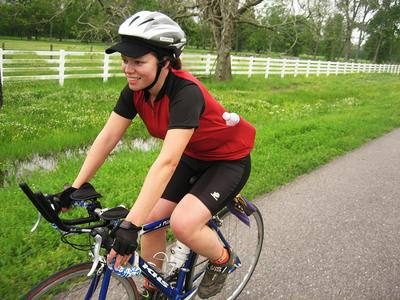person: (59, 12, 259, 299)
